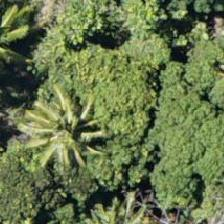coconut_tree: (7, 65, 97, 155)
